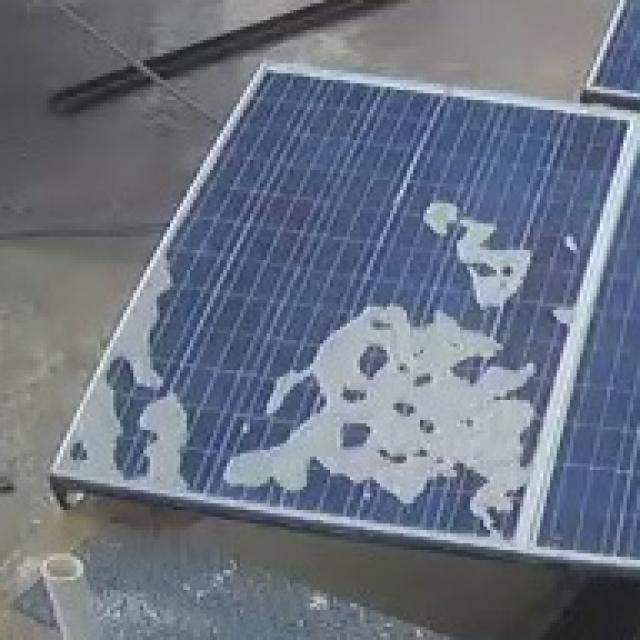faulty: (57, 52, 640, 565)
